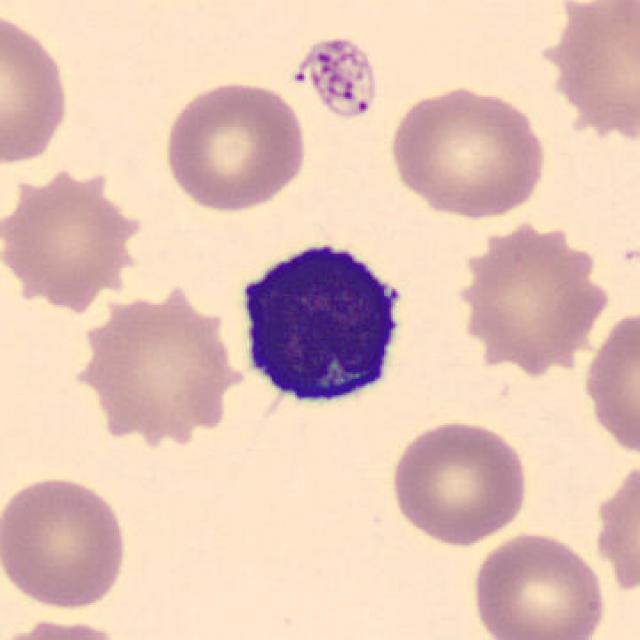Lymphocyte: (226, 228, 418, 420), (224, 229, 418, 418)
Platelets: (292, 34, 382, 125)
RBC: (79, 285, 246, 453), (456, 221, 606, 378), (384, 81, 551, 220), (2, 160, 151, 310), (158, 76, 311, 215), (386, 416, 532, 547), (2, 471, 133, 612), (468, 529, 610, 640), (549, 0, 640, 135), (0, 7, 73, 171), (580, 303, 638, 467), (586, 463, 640, 600), (0, 613, 135, 640)
